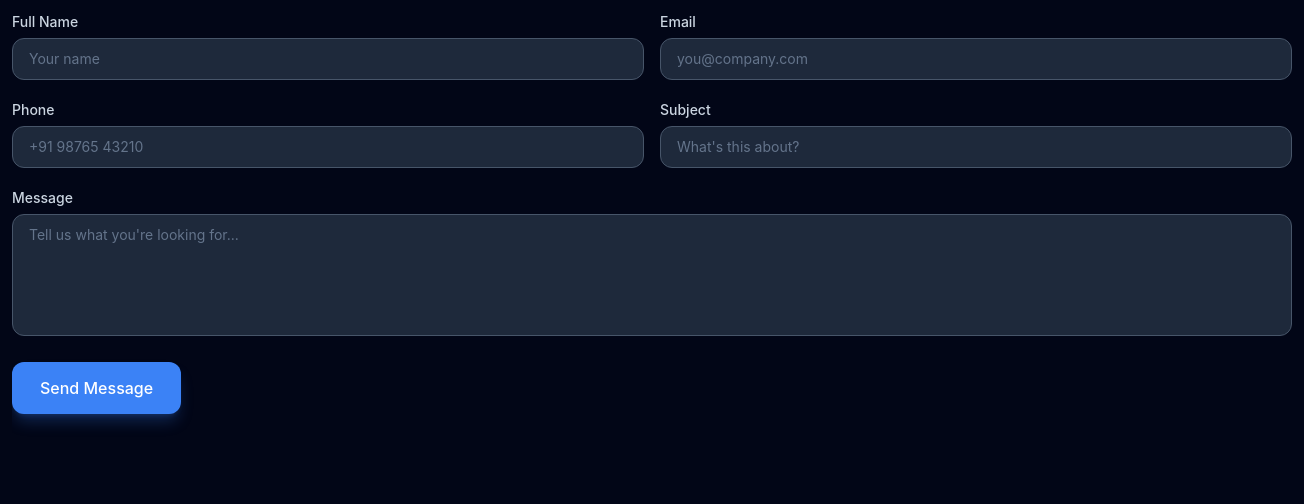
Scenario: ContactForm › shows validation errors on empty submit
This screenshot has width=1304, height=504.
Click the button "Send Message".
click(97, 388)  # box [12,362,181,414]
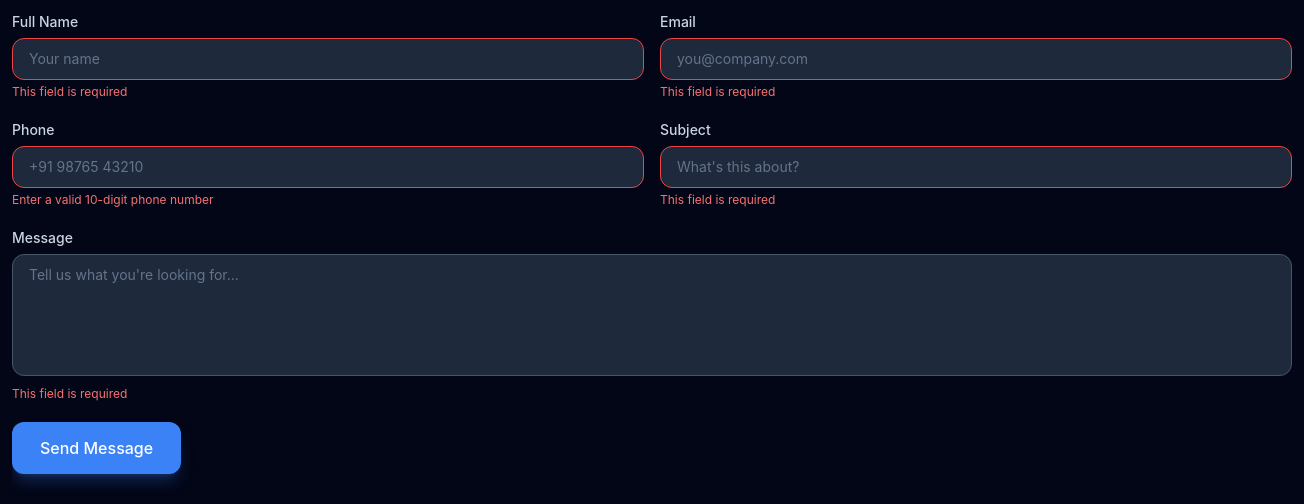
Now the text "This field is required" below "Full Name" is shown, box [12,84,127,99]
